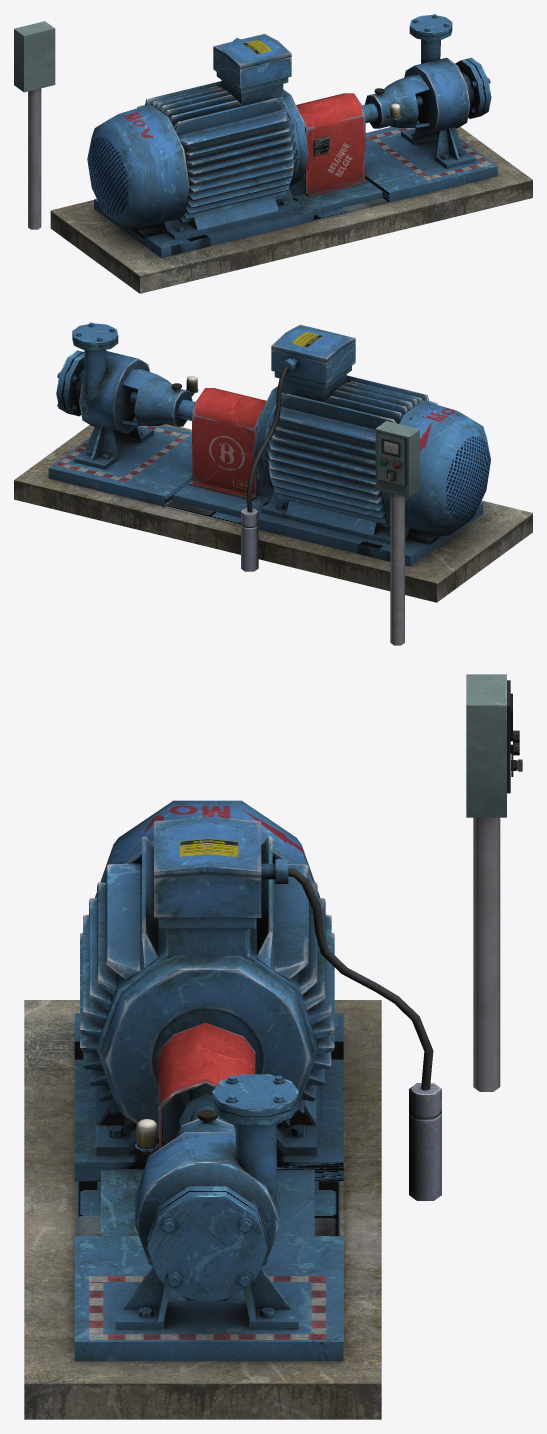
Rendered from Xuanhuanbeng_1.FBX.
3 views of the same model, one above another, from view 1: azimuth 30°, elevation 25°; view 2: azimuth 150°, elevation 25°; view 3: azimuth 270°, elevation 25° (orthographic). The views are drawn at different scales.
Parts seen in each view (by area): view 1: Xunhuanbeng_1, caozuozhu_2; view 2: Xunhuanbeng_1, caozuozhu_2; view 3: Xunhuanbeng_1, caozuozhu_2.
Part boxes in pixels (x1,y1,x2,y2): Xunhuanbeng_1: (50,14,532,293); caozuozhu_2: (14,21,55,229); Xunhuanbeng_1: (14,322,532,602); caozuozhu_2: (375,421,419,645); Xunhuanbeng_1: (24,800,441,1419); caozuozhu_2: (466,674,513,1091).
Bounding box in the file's own units: 0.8828 × 0.4209 × 0.478.
Materials: 2 (2 with a texture image).
